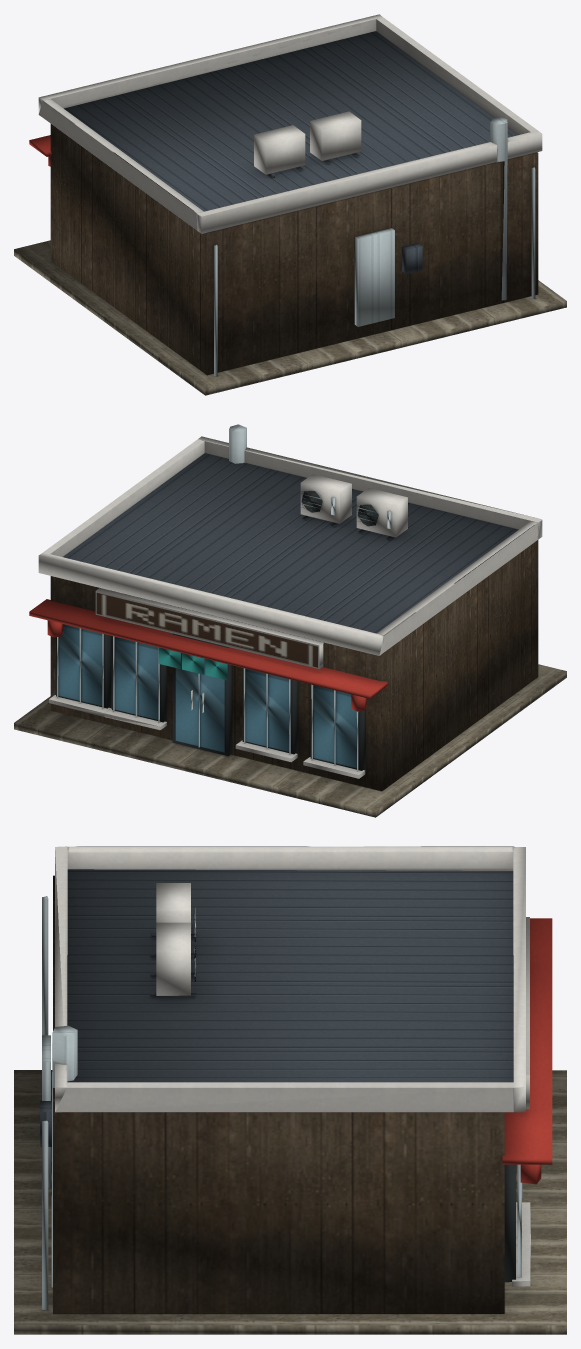
File: shop_004.obj
3 renders of one model, top to bottom at view 1: azimuth 30°, elevation 25°; view 2: azimuth 150°, elevation 25°; view 3: azimuth 270°, elevation 25°, orthographic. The views are drawn at different scales.
Visible parts, largest first — view 1: shop_004; view 2: shop_004; view 3: shop_004.
Part boxes in pixels (bbox=[...]): shop_004: bbox=[14, 14, 566, 395]; shop_004: bbox=[14, 424, 566, 817]; shop_004: bbox=[14, 846, 566, 1334].
Bounding box in the file's own units: 7.75 × 3.88 × 7.1.
Materials: 1 (1 with a texture image).
